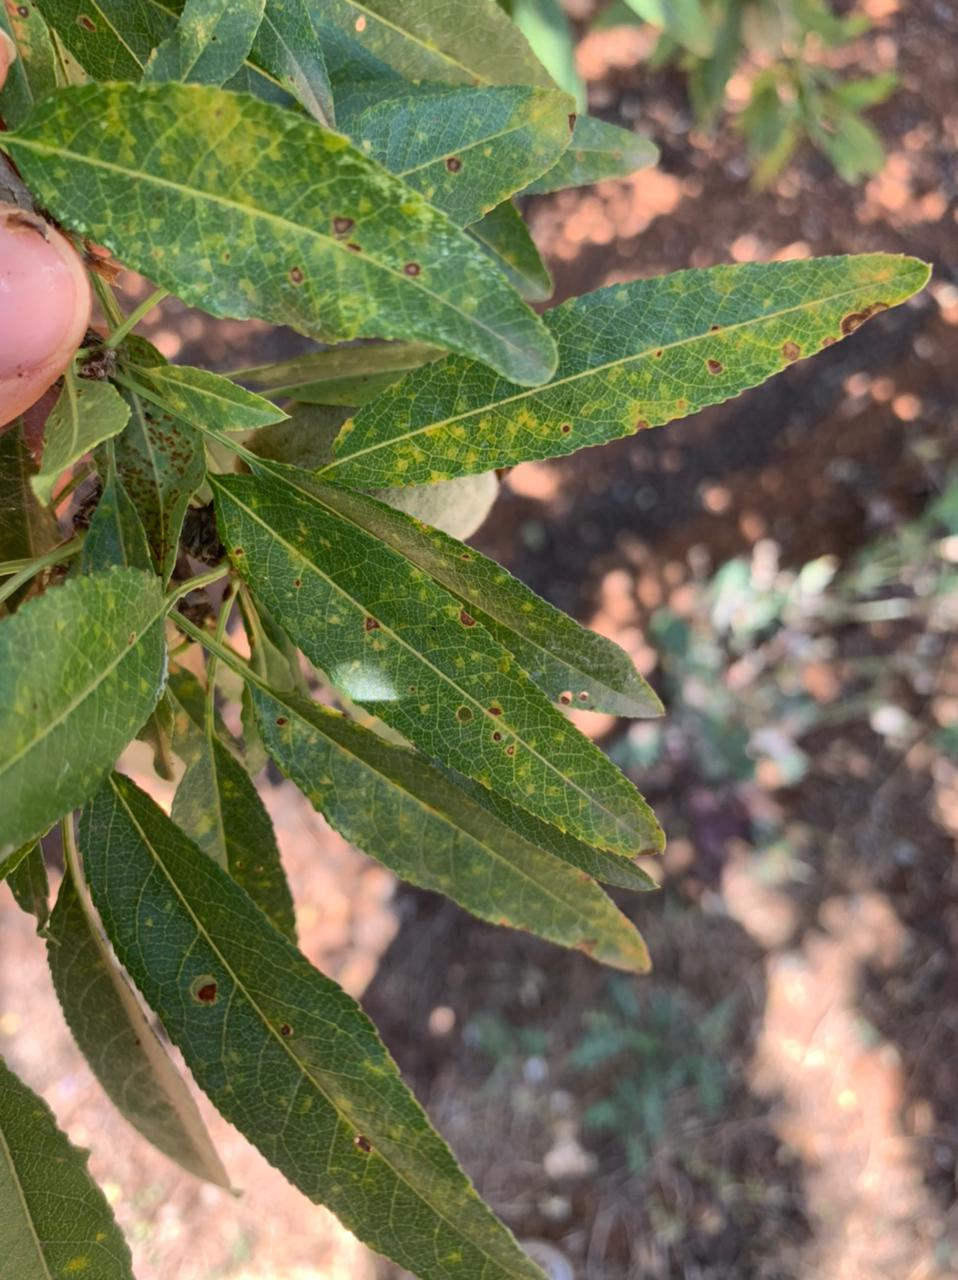rouille: (87, 784, 558, 1279), (205, 472, 677, 865), (313, 254, 933, 490), (127, 100, 575, 396), (232, 665, 652, 972), (252, 454, 670, 718), (114, 323, 201, 595)
